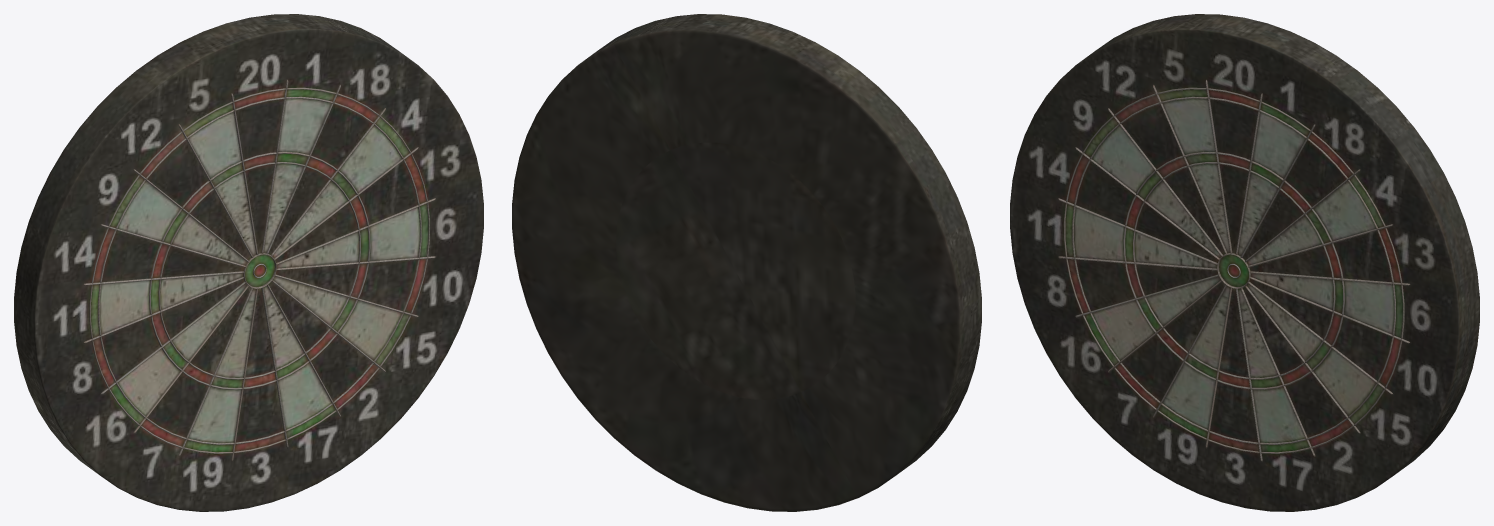
The model's file is dartboard.gltf.
3 views of the same model, side by side, from view 1: azimuth 30°, elevation 25°; view 2: azimuth 150°, elevation 25°; view 3: azimuth 330°, elevation 25° (orthographic).
Parts seen in each view (by area): view 1: dartboard; view 2: dartboard; view 3: dartboard.
Boxes of the visible parts, bbox=[...] form: dartboard: bbox=[14, 14, 483, 511]; dartboard: bbox=[512, 14, 981, 511]; dartboard: bbox=[1010, 14, 1479, 511].
Size of the model in its own units: 0.4507 by 0.4507 by 0.0398.
Materials: 1 (1 with a texture image).
